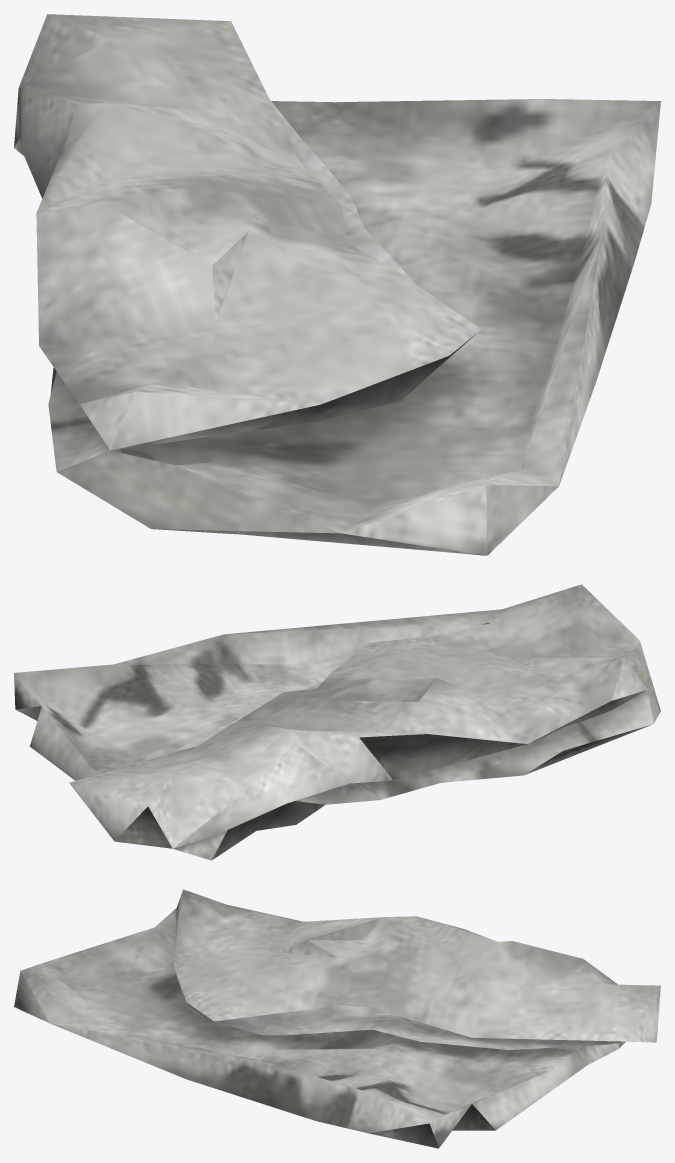
The model's file is rag_pillowcase_0_lod1_web.glb.
3 views of the same model, one above another, from view 1: azimuth 30°, elevation 25°; view 2: azimuth 150°, elevation 25°; view 3: azimuth 270°, elevation 25° (orthographic). The views are drawn at different scales.
Parts seen in each view (by area): view 1: rag_pillowcase_0_Cloth; view 2: rag_pillowcase_0_Cloth; view 3: rag_pillowcase_0_Cloth.
Part boxes in pixels (box(x1,y1,x2,y2)): rag_pillowcase_0_Cloth: box(14, 14, 660, 555); rag_pillowcase_0_Cloth: box(14, 584, 660, 860); rag_pillowcase_0_Cloth: box(14, 889, 660, 1148).
Bounding box in the file's own units: 0.5269 × 0.0839 × 0.6418.
Materials: 1 (1 with a texture image).
